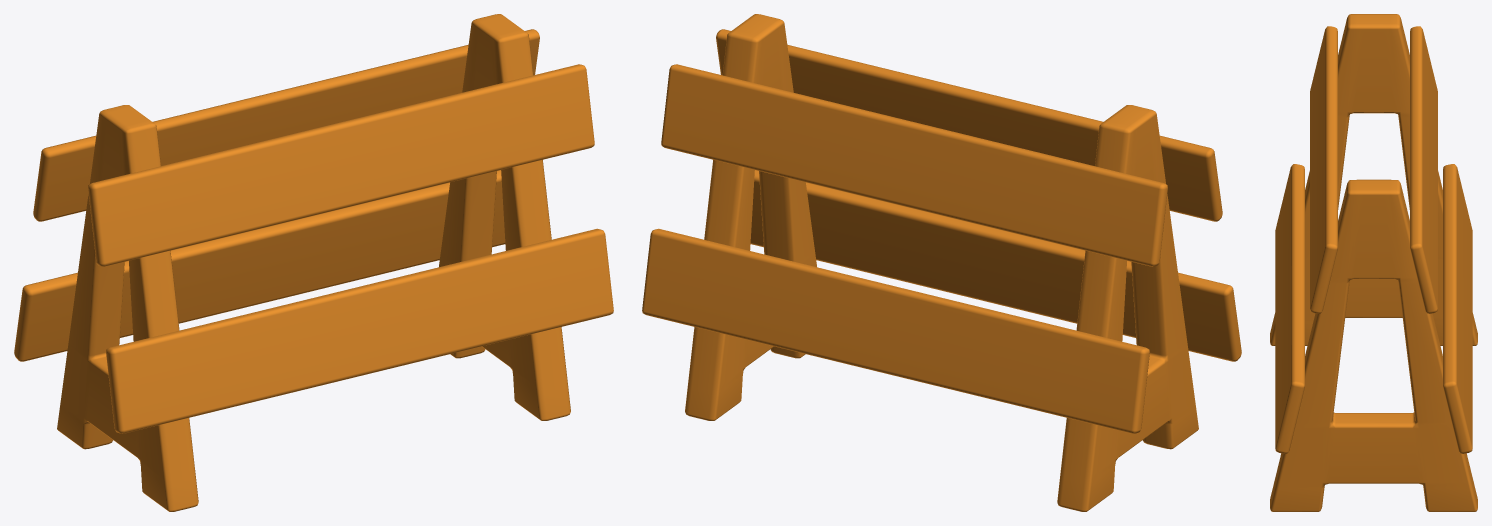
Rendered from rua_road_barrier_01.glb.
The picture shows the model from 3 angles, left to right: view 1: azimuth 30°, elevation 25°; view 2: azimuth 150°, elevation 25°; view 3: azimuth 270°, elevation 25°; orthographic projection. The views are drawn at different scales.
Parts seen in each view (by area): view 1: SM_Road_Barrier_01; view 2: SM_Road_Barrier_01; view 3: SM_Road_Barrier_01.
Boxes of the visible parts, x1,y1,x2,y2 form: SM_Road_Barrier_01: (14, 14, 613, 511); SM_Road_Barrier_01: (642, 14, 1241, 511); SM_Road_Barrier_01: (1270, 14, 1477, 511).
Size of what is drawn, in the model's own units: 0.8833 by 0.6 by 0.3517.
